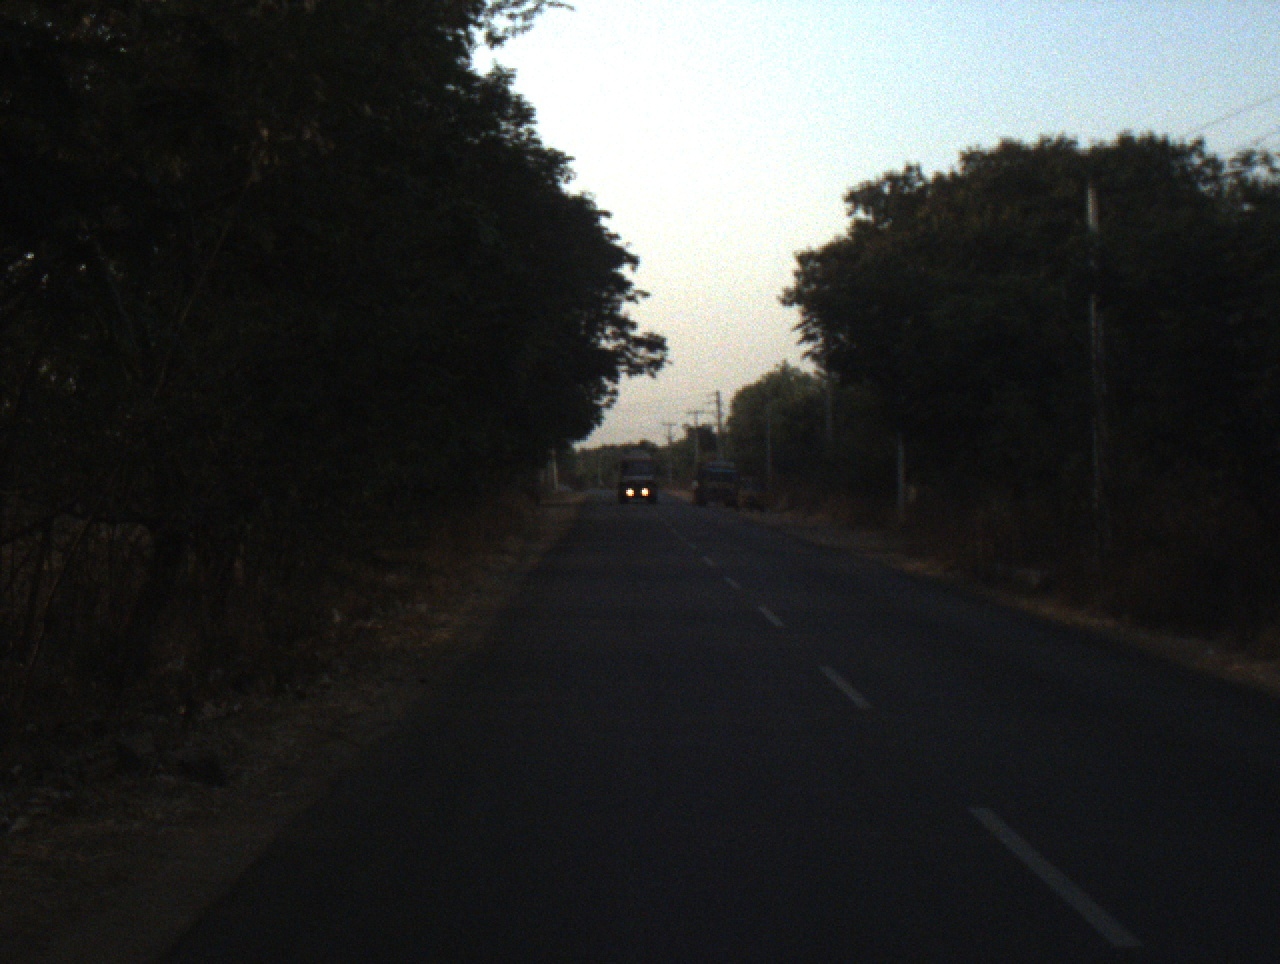autorickshaw: (728, 477, 769, 517)
person: (685, 473, 703, 508)
truck: (606, 447, 666, 508), (693, 449, 735, 509)
